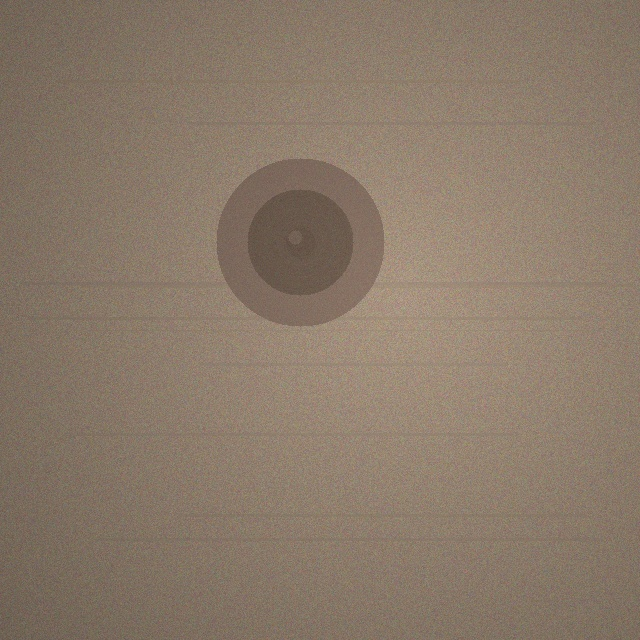good: (216, 158, 384, 326)
